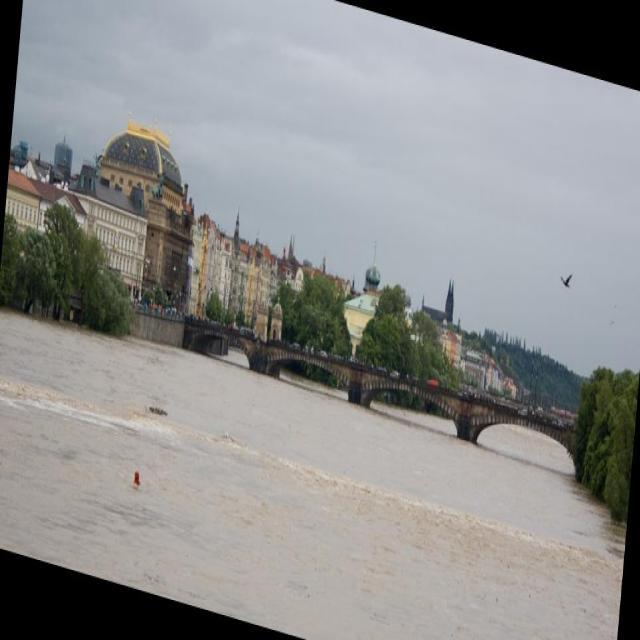flood: (0, 261, 633, 638)
